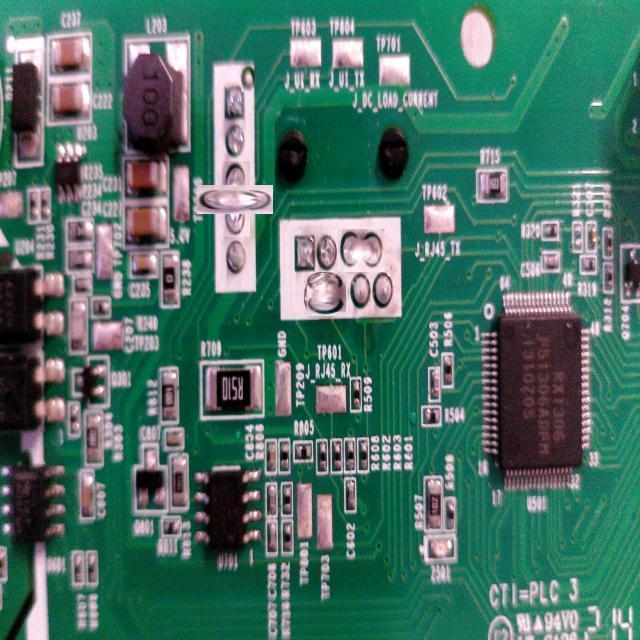Short_circuit: (209, 172, 262, 225), (337, 228, 385, 272), (305, 273, 347, 315)
